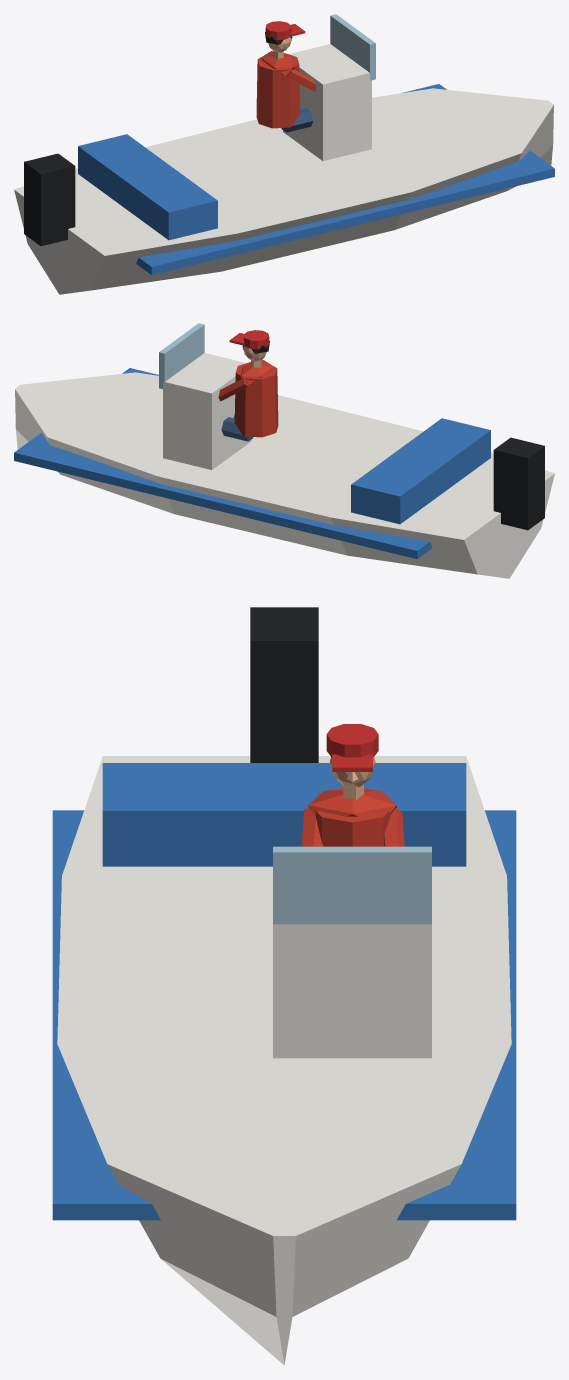
File: motorbat.glb
3 views of the same model, one above another, from view 1: azimuth 30°, elevation 25°; view 2: azimuth 150°, elevation 25°; view 3: azimuth 270°, elevation 25° (orthographic). The views are drawn at different scales.
Visible parts, largest first — view 1: motorbat; view 2: motorbat; view 3: motorbat.
Part boxes in pixels (bbox=[...]): motorbat: bbox=[14, 14, 554, 294]; motorbat: bbox=[14, 323, 554, 578]; motorbat: bbox=[52, 607, 516, 1365].
Bounding box in the file's own units: 5.27 × 2.03 × 2.04.
